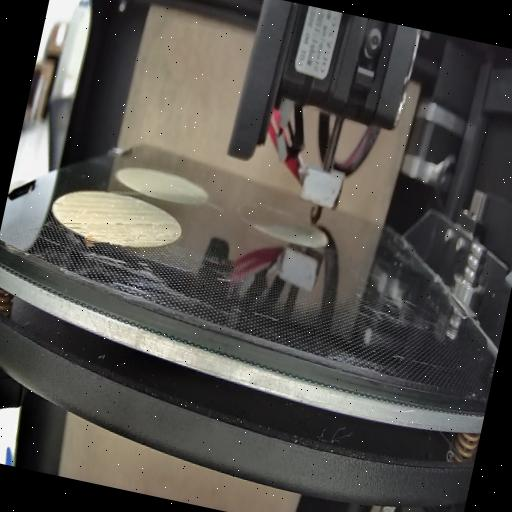under_extrusion: (58, 218, 91, 236), (92, 224, 114, 242), (134, 218, 157, 234), (50, 200, 72, 216), (153, 233, 172, 249), (112, 217, 134, 230), (120, 234, 137, 244)
